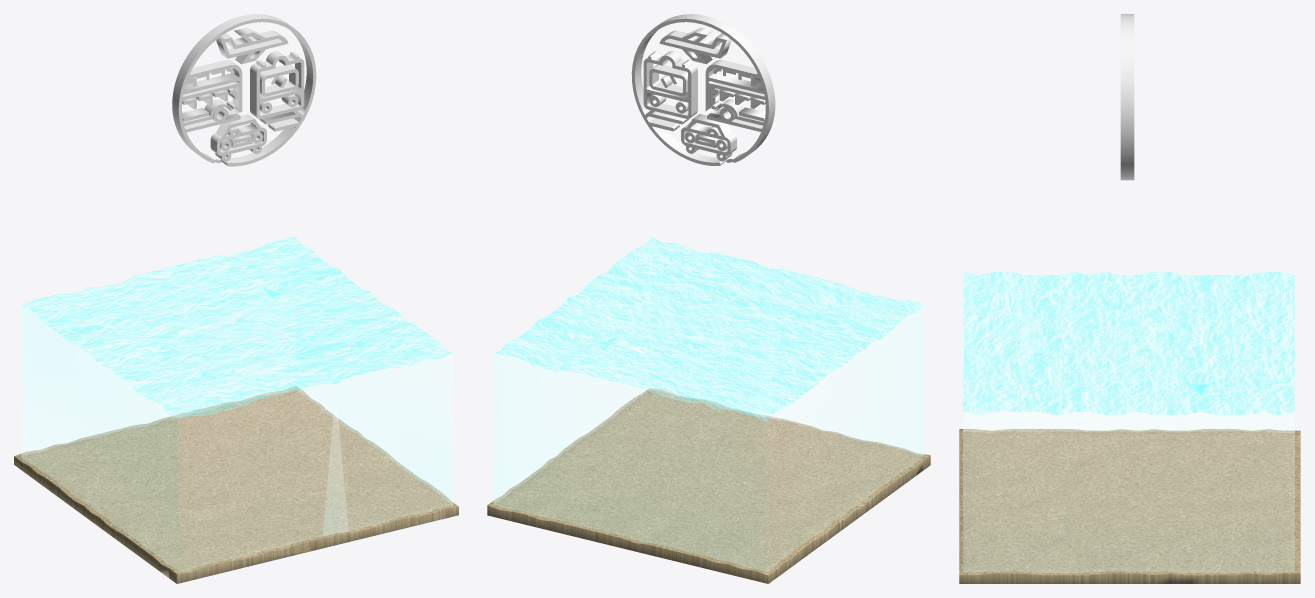
The model's file is water-lower-transport-trans2.glb.
The picture shows the model from 3 angles, left to right: view 1: azimuth 30°, elevation 25°; view 2: azimuth 150°, elevation 25°; view 3: azimuth 270°, elevation 25°; orthographic projection. The views are drawn at different scales.
Visible parts, largest first — view 1: Plane.002_0, Sand, Plane.002_1, Curve.015; view 2: Plane.002_0, Sand, Plane.002_1, Curve.015; view 3: Plane.002_0, Sand, Plane.002_1, Curve.015.
Part boxes in pixels (x1=…): Plane.002_0: x1=21, y1=306, x2=453, y2=571; Sand: x1=14, y1=386, x2=458, y2=583; Plane.002_1: x1=22, y1=236, x2=452, y2=419; Curve.015: x1=172, y1=14, x2=316, y2=166; Plane.002_0: x1=493, y1=276, x2=924, y2=571; Sand: x1=487, y1=388, x2=930, y2=583; Plane.002_1: x1=494, y1=237, x2=923, y2=421; Curve.015: x1=631, y1=14, x2=775, y2=165; Plane.002_0: x1=963, y1=273, x2=1294, y2=572; Sand: x1=959, y1=429, x2=1300, y2=583; Plane.002_1: x1=963, y1=272, x2=1294, y2=415; Curve.015: x1=1120, y1=14, x2=1134, y2=180.
Size of the model in its own units: 107 by 171 by 107.
4 materials, 2 textured.
